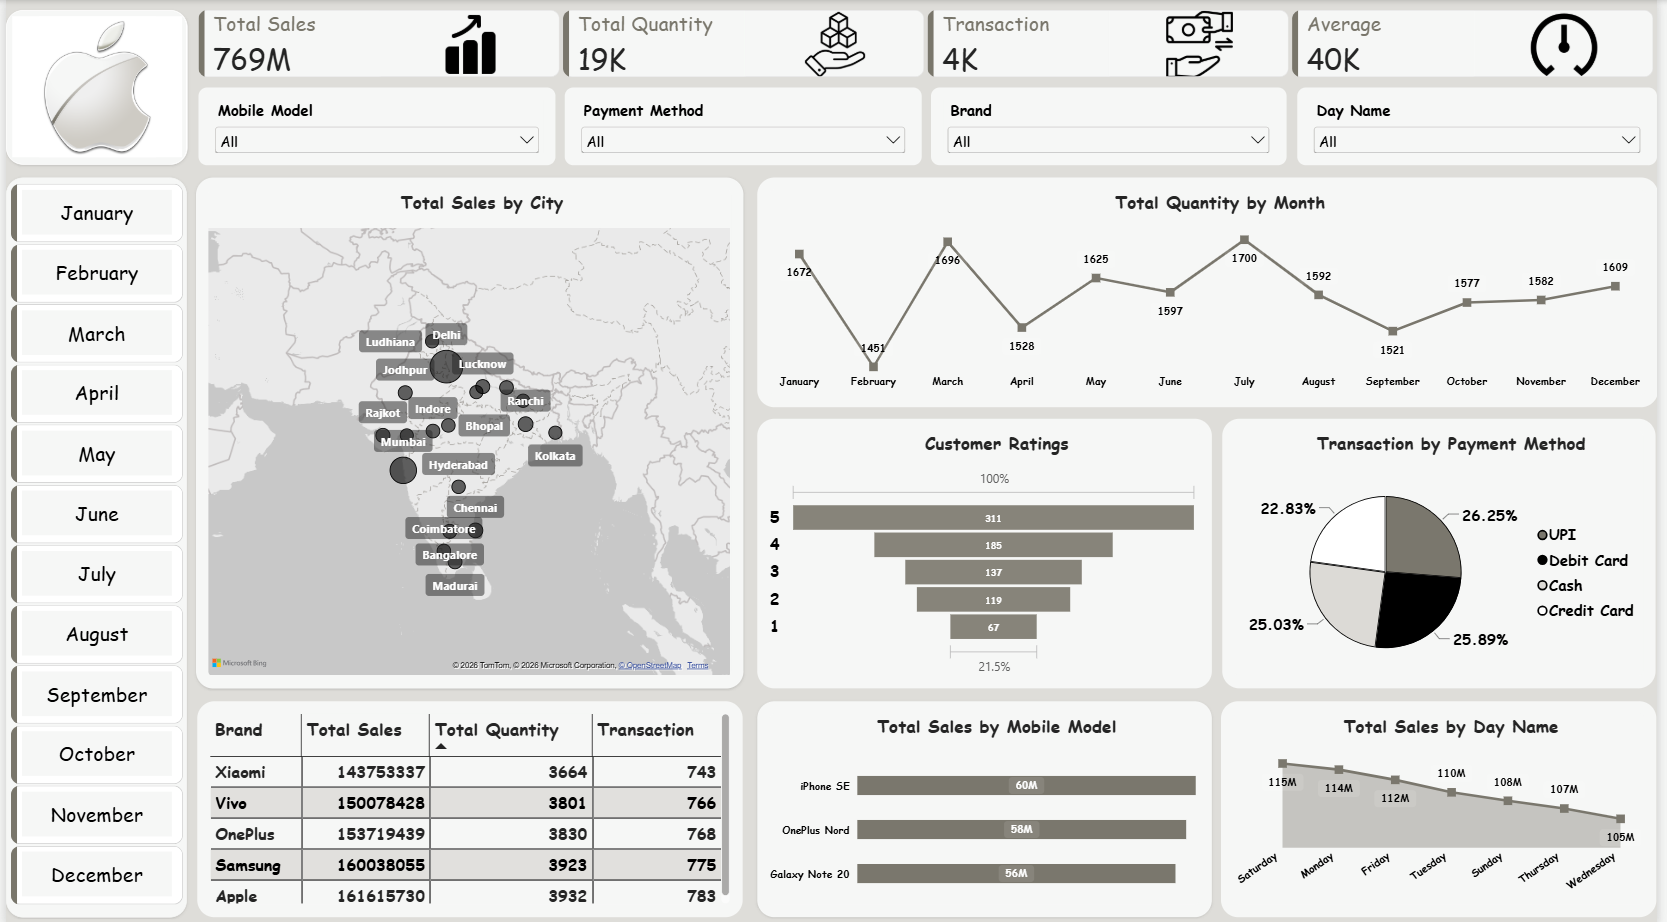

The page's visual inventory and layout, read from the dashboard file:
{"tool":"powerbi","page":{"name":"Page 1","canvas":[1920,1080],"ordinal":0},"visuals":[{"type":"shape","box":[0,11.6,210.8,180.3],"z":0},{"type":"image","box":[7.3,18.9,197.7,164.3],"z":1000},{"type":"shape","box":[0,205.8,210.5,860.5],"z":2000},{"type":"advancedSlicerVisual","fields":{"Values":["MobileSalesData.Date.Variation.Date Hierarchy.Month"]},"box":[6.2,213.6,200.6,844.8],"z":3000},{"type":"cardVisual","fields":{"Data":["MobileSalesData.Total Sales","MobileSalesData.Total Quantity","MobileSalesData.Transaction","MobileSalesData.Average"]},"box":[223.9,11.6,1695.3,78.5],"z":4000},{"type":"map","fields":{"Category":["MobileSalesData.City"],"Size":["MobileSalesData.Total Sales"]},"box":[221.5,205.8,636.6,594.8],"z":5000},{"type":"lineChart","fields":{"Y":["MobileSalesData.Total Quantity"],"Category":["MobileSalesData.Date.Variation.Date Hierarchy.Month","MobileSalesData.Date.Variation.Date Hierarchy.Day"]},"box":[873.8,205.8,1048.3,266.9],"z":6000},{"type":"clusteredBarChart","fields":{"Category":["MobileSalesData.Mobile Model"],"Y":["MobileSalesData.Total Sales"]},"box":[874.5,815.3,528.5,251],"z":7000},{"type":"pieChart","fields":{"Category":["MobileSalesData.Payment Method"],"Y":["MobileSalesData.Transaction"]},"box":[1414.5,486.6,504.1,314],"z":8000},{"type":"funnel","title":"Customer Ratings","fields":{"Category":["MobileSalesData.Customer Ratings"],"Y":["CountNonNull(MobileSalesData.Customer Ratings)"]},"box":[873.8,486.6,528.5,314],"z":9000},{"type":"areaChart","fields":{"Category":["MobileSalesData.Day Name"],"Y":["MobileSalesData.Total Sales"]},"box":[1413.9,815.3,506.6,251],"z":10000},{"type":"tableEx","fields":{"Values":["MobileSalesData.Brand","MobileSalesData.Total Sales","MobileSalesData.Total Quantity","MobileSalesData.Transaction"]},"box":[222.9,815.3,634.5,251],"z":11000},{"type":"slicer","fields":{"Values":["MobileSalesData.Mobile Model"]},"box":[223.3,101.2,415.1,90.7],"z":12000},{"type":"slicer","fields":{"Values":["MobileSalesData.Payment Method"]},"box":[650.6,101.2,415.1,90.7],"z":13000},{"type":"slicer","fields":{"Values":["MobileSalesData.Brand"]},"box":[1076.2,101.2,413.4,90.7],"z":14000},{"type":"slicer","fields":{"Values":["MobileSalesData.Day Name"]},"box":[1501.7,101.2,418.6,90.7],"z":15000}]}

Visuals, with their boxes in screenshot pixels (x1, y1, x2, y2), scaled from the page's 1920x1080 canvas onto the 1667x922 screenshot:
shape: (0, 10, 183, 164)
image: (6, 16, 178, 156)
shape: (0, 176, 183, 910)
advancedSlicerVisual - MobileSalesData.Date.Variation.Date Hierarchy.Month: (5, 182, 180, 904)
cardVisual - MobileSalesData.Total Sales x MobileSalesData.Total Quantity: (194, 10, 1666, 77)
map - MobileSalesData.City x MobileSalesData.Total Sales: (192, 176, 745, 683)
lineChart - MobileSalesData.Total Quantity x MobileSalesData.Date.Variation.Date Hierarchy.Month: (759, 176, 1666, 404)
clusteredBarChart - MobileSalesData.Mobile Model x MobileSalesData.Total Sales: (759, 696, 1218, 910)
pieChart - MobileSalesData.Payment Method x MobileSalesData.Transaction: (1228, 415, 1666, 683)
"Customer Ratings" funnel: (759, 415, 1218, 683)
areaChart - MobileSalesData.Day Name x MobileSalesData.Total Sales: (1228, 696, 1666, 910)
tableEx - MobileSalesData.Brand x MobileSalesData.Total Sales: (194, 696, 744, 910)
slicer - MobileSalesData.Mobile Model: (194, 86, 554, 164)
slicer - MobileSalesData.Payment Method: (565, 86, 925, 164)
slicer - MobileSalesData.Brand: (934, 86, 1293, 164)
slicer - MobileSalesData.Day Name: (1304, 86, 1666, 164)
